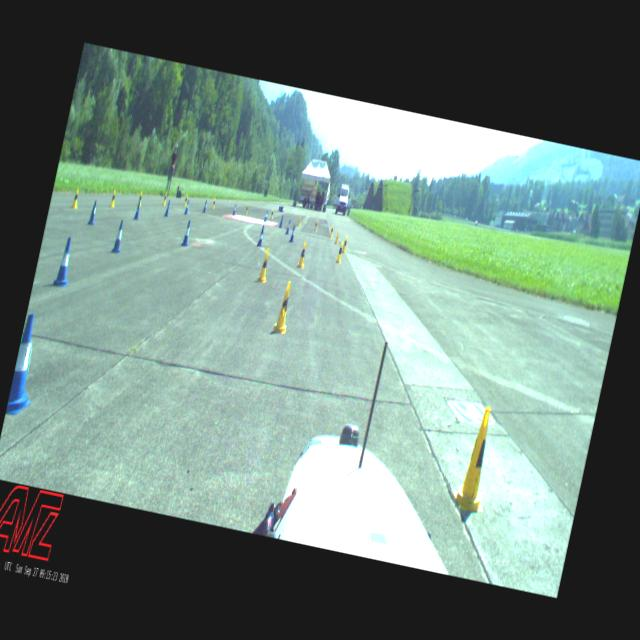blue_cone: (6, 312, 48, 416), (51, 235, 78, 288), (110, 218, 126, 254), (180, 219, 192, 247), (88, 199, 100, 225), (133, 195, 143, 220), (256, 224, 266, 247), (164, 200, 172, 217), (288, 225, 296, 242), (284, 218, 292, 234), (183, 198, 190, 214), (202, 199, 208, 213), (278, 215, 284, 228), (232, 202, 237, 215), (264, 209, 268, 222)
yellow_cone: (449, 404, 504, 514), (272, 280, 296, 334), (255, 246, 272, 284), (296, 241, 308, 269), (70, 186, 81, 209), (334, 240, 344, 264), (110, 188, 118, 208), (341, 235, 349, 253), (333, 228, 340, 244), (328, 224, 334, 238), (162, 192, 168, 205), (182, 194, 188, 206), (296, 215, 302, 226), (313, 219, 318, 231), (244, 203, 249, 214), (211, 198, 216, 208), (270, 208, 274, 219)
